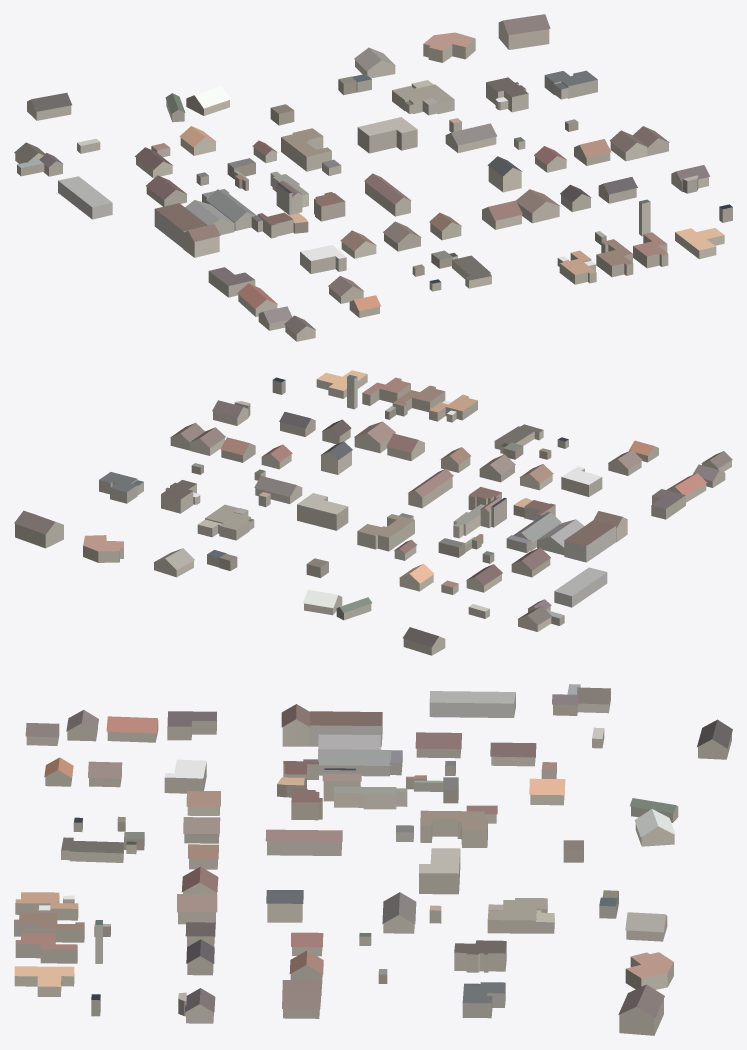
The picture shows the model from 3 angles, top to bottom: view 1: azimuth 30°, elevation 25°; view 2: azimuth 150°, elevation 25°; view 3: azimuth 270°, elevation 25°; orthographic projection. The views are drawn at different scales.
Parts seen in each view (by area): view 1: tuile; view 2: tuile; view 3: tuile.
Part boxes in pixels (x1,y1,x2,y2): tuile: [14, 14, 732, 341]; tuile: [14, 370, 732, 655]; tuile: [14, 684, 732, 1035].
Size of the model in its own units: 252 by 17.3 by 238.
